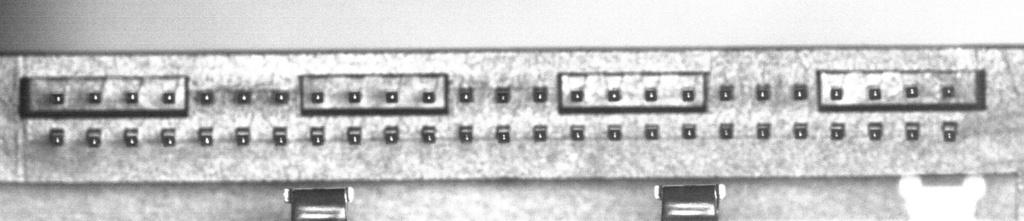pin_ok: (941, 121, 959, 141), (85, 127, 102, 147), (904, 121, 921, 141), (160, 128, 177, 147), (867, 121, 884, 140), (829, 122, 846, 140), (197, 127, 213, 146), (123, 128, 139, 147), (457, 86, 474, 103), (718, 84, 735, 101), (346, 126, 362, 144), (383, 125, 399, 143), (458, 124, 474, 142), (49, 127, 65, 145), (421, 125, 437, 143), (793, 121, 809, 139), (495, 85, 511, 103), (235, 127, 250, 146), (532, 124, 548, 141), (532, 85, 548, 102), (272, 127, 287, 145), (310, 127, 325, 145), (234, 89, 252, 104), (606, 124, 622, 140), (755, 84, 771, 100), (792, 84, 808, 100), (496, 126, 511, 143), (756, 122, 771, 139), (644, 123, 659, 140), (719, 122, 734, 139), (570, 124, 585, 140), (681, 124, 697, 139), (272, 90, 289, 104), (197, 90, 214, 104), (643, 87, 658, 101), (941, 84, 956, 98), (569, 88, 584, 102), (681, 88, 695, 102), (829, 87, 844, 100), (868, 86, 881, 100), (905, 85, 919, 98), (385, 90, 399, 103), (162, 91, 176, 104), (422, 90, 436, 103), (607, 88, 621, 101), (49, 92, 64, 104), (348, 90, 361, 103), (310, 91, 324, 103), (87, 91, 101, 103), (126, 91, 138, 103)
